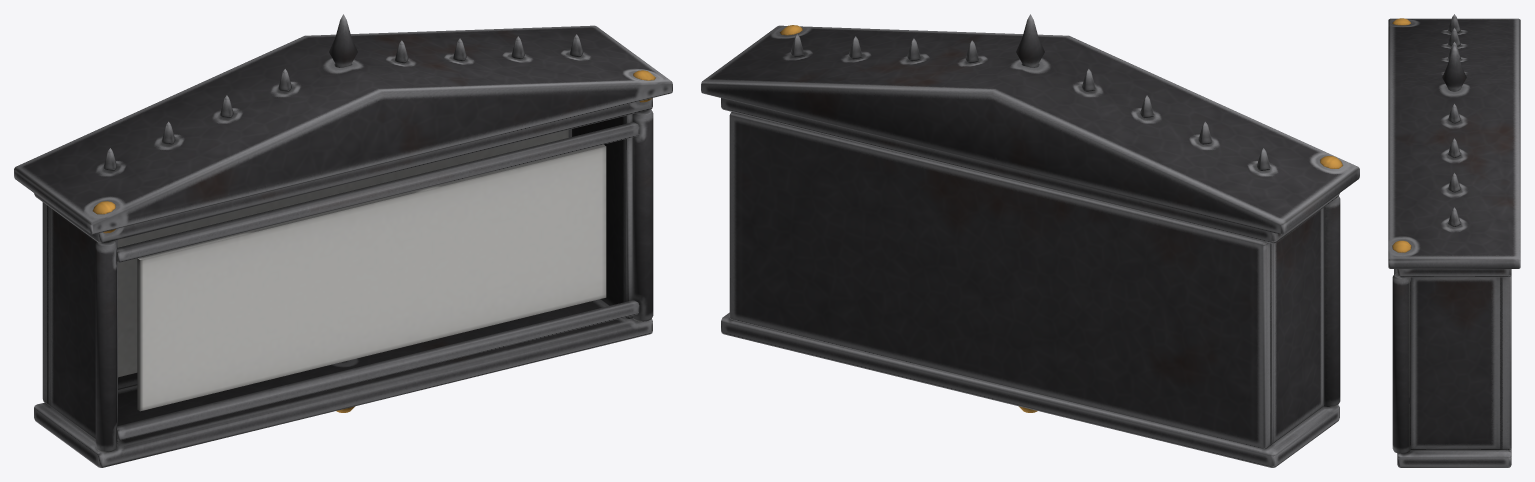
Rendered from ExitLantern.fbx.
The picture shows the model from 3 angles, left to right: view 1: azimuth 30°, elevation 25°; view 2: azimuth 150°, elevation 25°; view 3: azimuth 270°, elevation 25°; orthographic projection. The views are drawn at different scales.
Parts seen in each view (by area): view 1: ExitLantern_Main, ExitLantern_Glass, ExitLantern_Glow; view 2: ExitLantern_Main; view 3: ExitLantern_Main.
Boxes of the visible parts, <box> form: ExitLantern_Main: <box>14,14,672,467</box>; ExitLantern_Glass: <box>137,144,606,411</box>; ExitLantern_Glow: <box>118,130,568,377</box>; ExitLantern_Main: <box>701,14,1359,467</box>; ExitLantern_Main: <box>1388,14,1520,467</box>.
Bounding box in the file's own units: 250 × 162 × 58.
